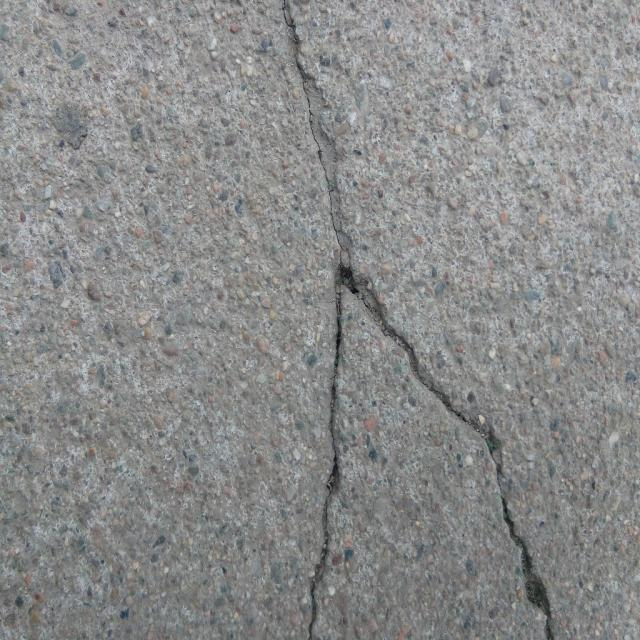cracks: (262, 0, 580, 640)
